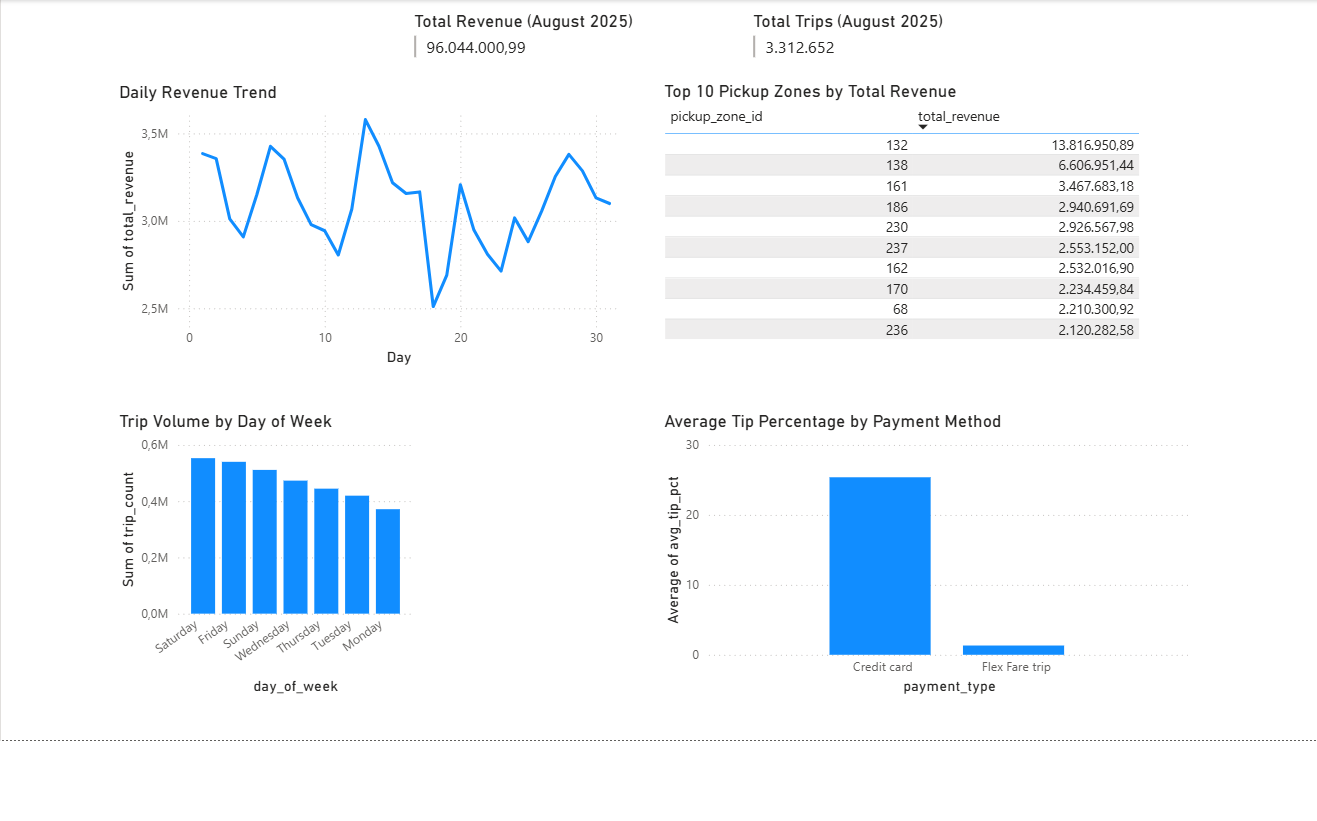

The dashboard page shown, as its layout file describes it:
{"tool":"powerbi","page":{"name":"Page 1","canvas":[1280,720],"ordinal":0},"visuals":[{"type":"lineChart","title":"Daily Revenue Trend ","fields":{"Category":["bronze_gold mart_daily_revenue.trip_date.Variation.Date Hierarchy.Day"],"Y":["Sum(bronze_gold mart_daily_revenue.total_revenue)"]},"box":[109.9,79.8,497,280.1],"z":0},{"type":"tableEx","title":"Top 10 Pickup Zones by Total Revenue","fields":{"Values":["bronze_gold mart_zone_revenue.pickup_zone_id","bronze_gold mart_zone_revenue.total_revenue"]},"box":[640,78.8,472.7,291.8],"z":1000},{"type":"columnChart","title":"Trip Volume by Day of Week","fields":{"Category":["bronze_gold mart_trips_by_hour.day_of_week"],"Y":["Sum(bronze_gold mart_trips_by_hour.trip_count)"]},"box":[109.9,399.8,295.7,280.1],"z":2000},{"type":"columnChart","title":"Average Tip Percentage by Payment Method","fields":{"Category":["bronze_gold mart_tip_by_payment_type.payment_type"],"Y":["Avg(bronze_gold mart_tip_by_payment_type.avg_tip_pct)"]},"box":[640,399.8,521.3,280.1],"z":3000},{"type":"multiRowCard","title":"Total Revenue (August 2025)","fields":{"Values":["Sum(bronze_gold mart_daily_revenue.total_revenue)"]},"box":[396.8,10.7,228.6,68.1],"z":4000},{"type":"multiRowCard","title":"Total Trips (August 2025)","fields":{"Values":["Sum(bronze_gold mart_daily_revenue.trip_count)"]},"box":[726.6,10.7,228.6,68.1],"z":4001}]}

Visuals, with their boxes on the page's 1280x720 design canvas (x1, y1, x2, y2). These are canvas units, not pixel positions in the 1317x821 screenshot, which may show the page scaled, cropped or inside an application window:
"Daily Revenue Trend " lineChart: [x1=110, y1=80, x2=607, y2=360]
"Top 10 Pickup Zones by Total Revenue" tableEx: [x1=640, y1=79, x2=1113, y2=371]
"Trip Volume by Day of Week" columnChart: [x1=110, y1=400, x2=406, y2=680]
"Average Tip Percentage by Payment Method" columnChart: [x1=640, y1=400, x2=1161, y2=680]
"Total Revenue (August 2025)" multiRowCard: [x1=397, y1=11, x2=625, y2=79]
"Total Trips (August 2025)" multiRowCard: [x1=727, y1=11, x2=955, y2=79]
